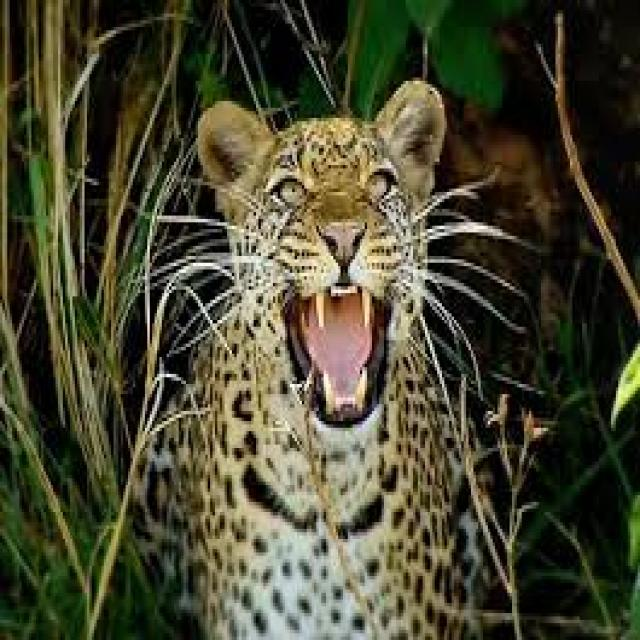Jaguar: (174, 81, 468, 640)
